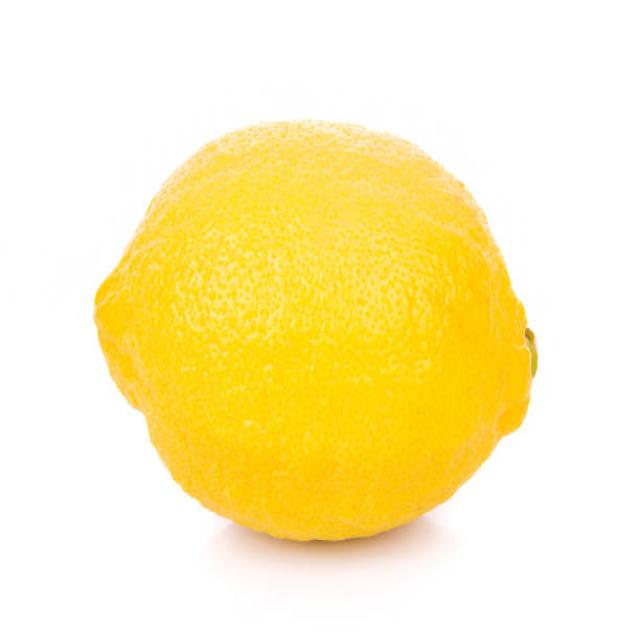Lemon: (94, 116, 541, 545)
